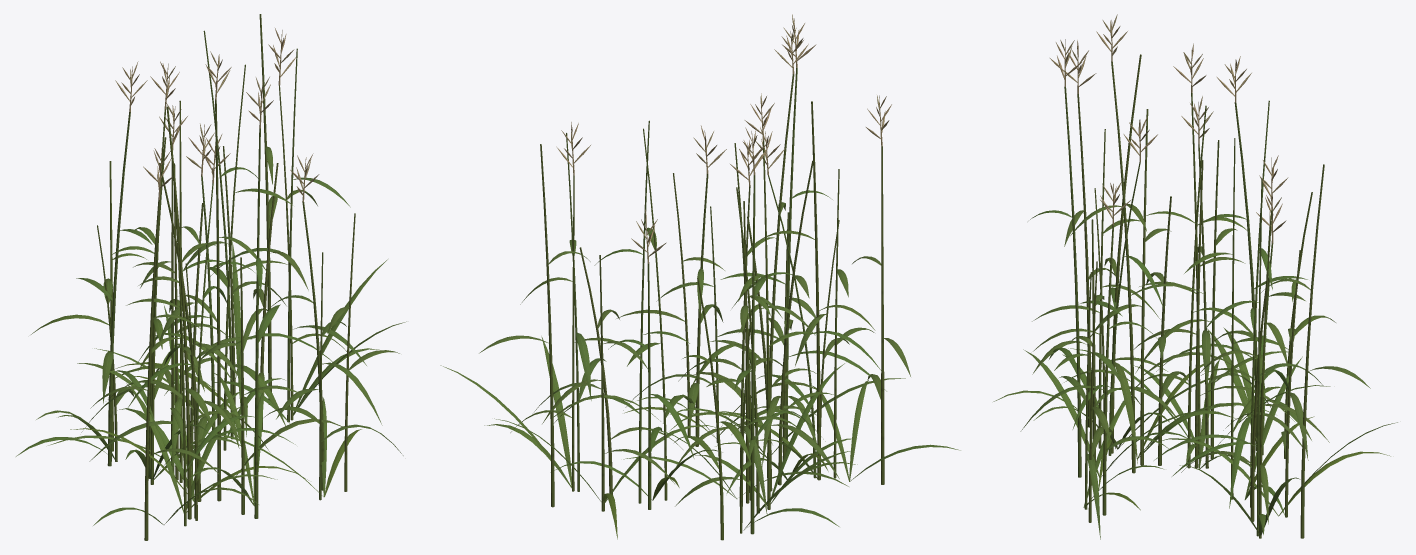
The model's file is water_reeds_patch.glb.
3 views of the same model, side by side, from view 1: azimuth 30°, elevation 25°; view 2: azimuth 150°, elevation 25°; view 3: azimuth 270°, elevation 25° (orthographic). The views are drawn at different scales.
Visible parts, largest first — view 1: WaterReedsPatch; view 2: WaterReedsPatch; view 3: WaterReedsPatch.
Part boxes in pixels (x1,y1,x2,y2): WaterReedsPatch: (16,14,406,540); WaterReedsPatch: (440,14,960,540); WaterReedsPatch: (993,14,1397,539).
Size of the model in its own units: 1.74 by 1.83 by 1.51.
Materials: 1 (1 with a texture image).
